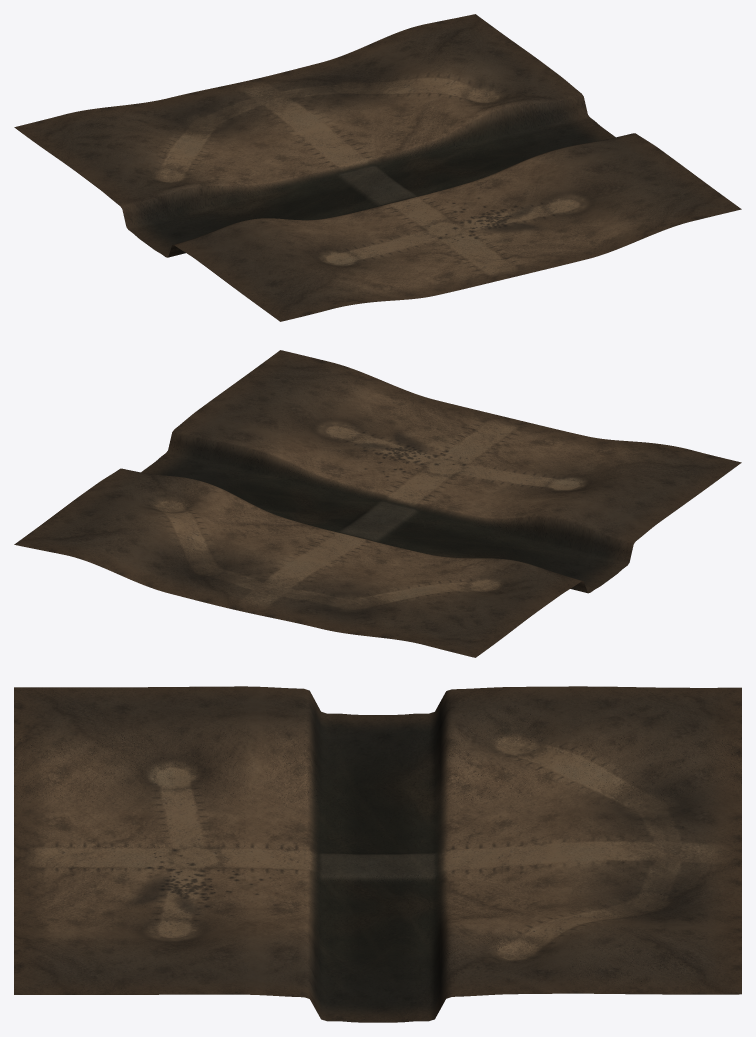
The model's file is night-shift-terrain.glb.
3 renders of one model, top to bottom at view 1: azimuth 30°, elevation 25°; view 2: azimuth 150°, elevation 25°; view 3: azimuth 270°, elevation 25°, orthographic. The views are drawn at different scales.
Visible parts, largest first — view 1: NightShiftTerrain; view 2: NightShiftTerrain; view 3: NightShiftTerrain.
Part boxes in pixels (x1,y1,x2,y2): NightShiftTerrain: (14,14,741,321); NightShiftTerrain: (14,350,741,657); NightShiftTerrain: (14,686,741,1022).
Size of the model in its own units: 64 by 3.65 by 64.
Materials: 1 (1 with a texture image).
